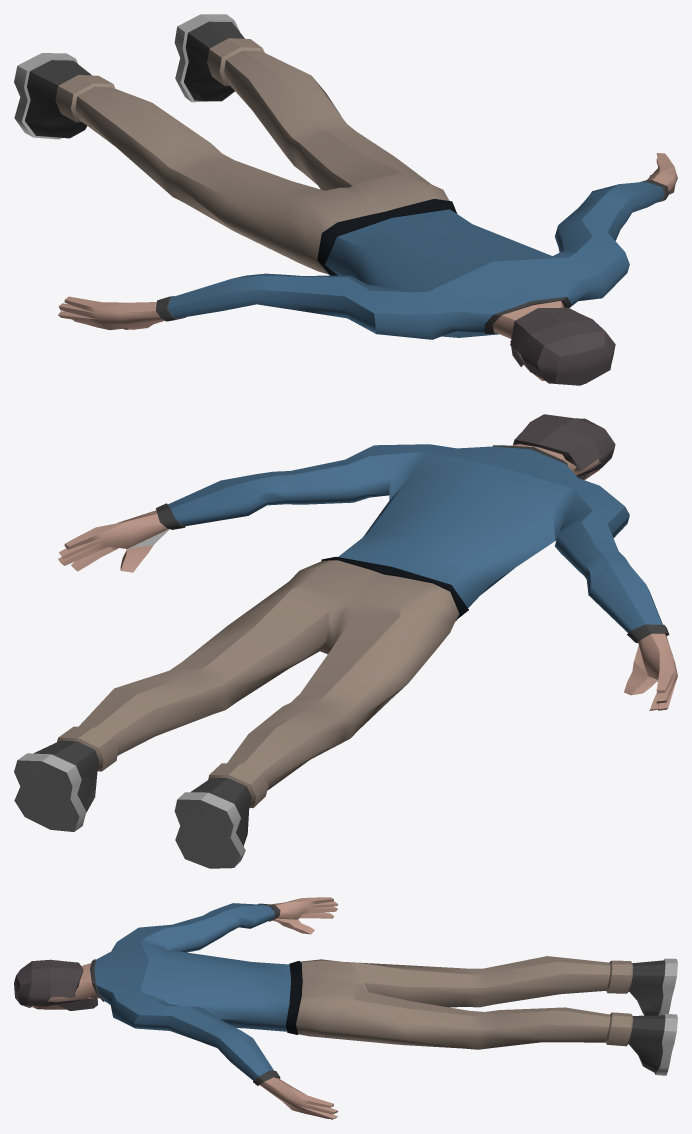
Rendered from adam.fbx.
The picture shows the model from 3 angles, top to bottom: view 1: azimuth 30°, elevation 25°; view 2: azimuth 150°, elevation 25°; view 3: azimuth 270°, elevation 25°; orthographic projection. The views are drawn at different scales.
Visible parts, largest first — view 1: polySurface8; view 2: polySurface8; view 3: polySurface8.
Boxes of the visible parts, x1,y1,x2,y2 form: polySurface8: (14,14,677,385); polySurface8: (14,414,677,868); polySurface8: (14,897,677,1119).
Size of the model in its own units: 10.52 by 1.96 by 13.9.
